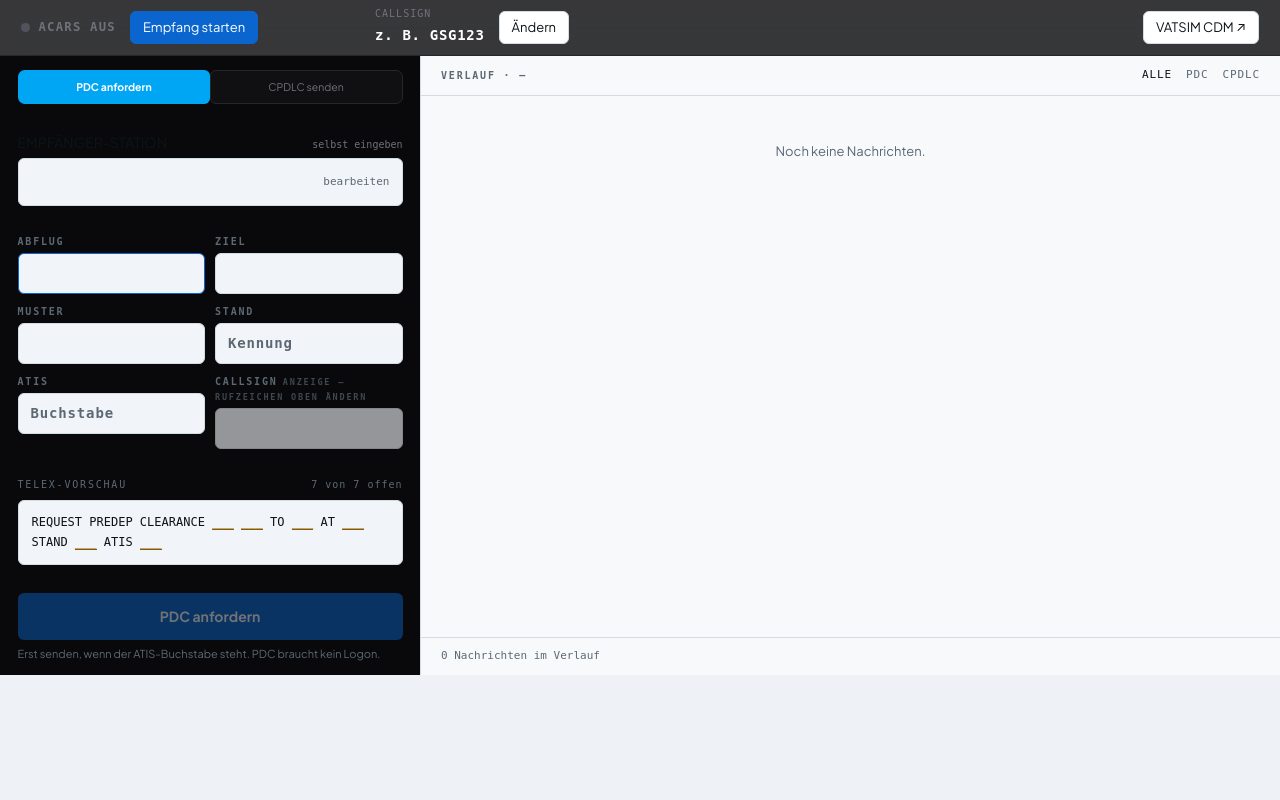
Test case: CpdlcPanel connection flow › surfaces a connect refusal instead of silently staying offline
Check: the text "ACARS AUS" is shown, box [21,19,116,36]
# No callsign typed at all — the backend refuses.
Click the button "Empfang starten".
click(194, 28)  # box [130,11,258,44]
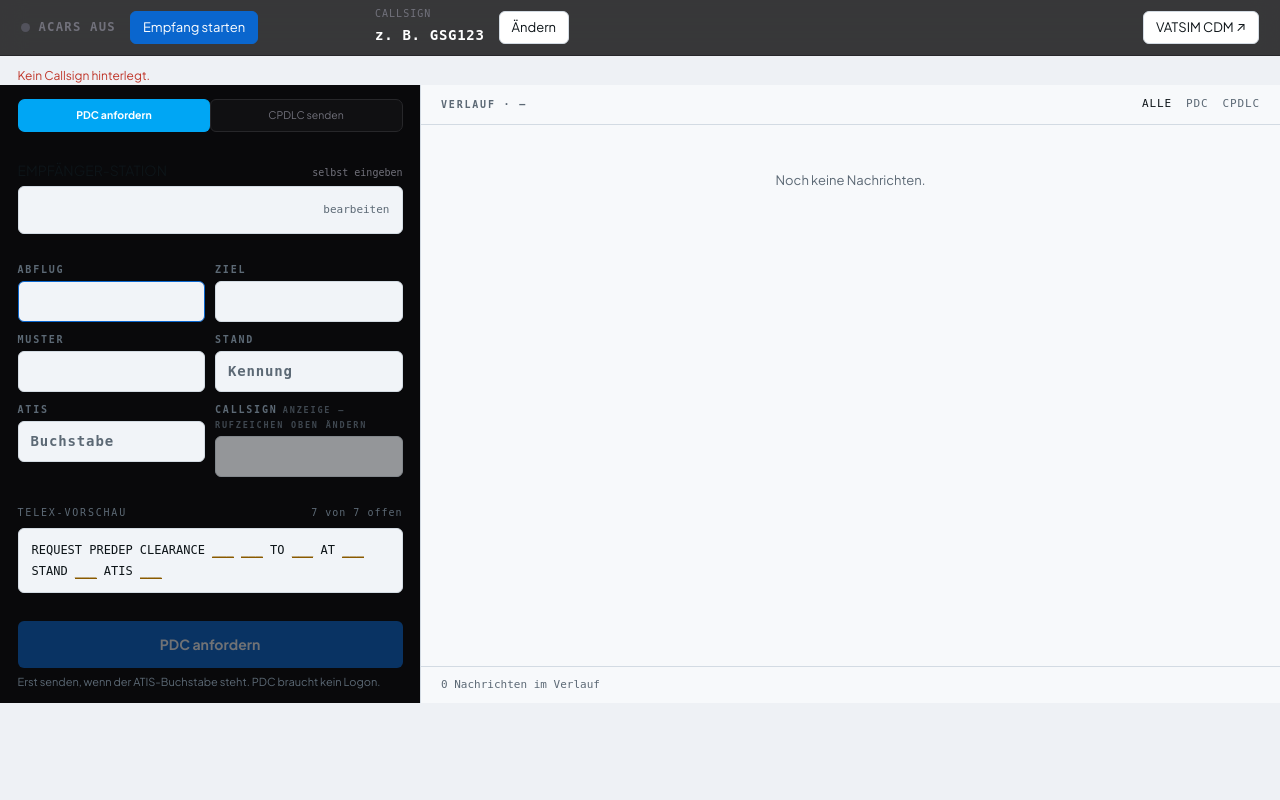
Check: the text "ACARS AUS" is shown, box [21,19,116,36]
Check: the text "Kein Callsign hinterlegt." is shown, box [18,68,150,82]
